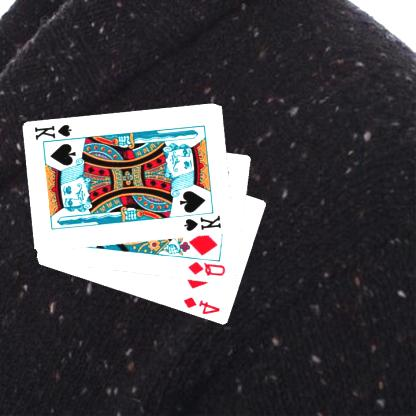4D: (183, 295, 223, 316)
KS: (34, 122, 79, 145), (183, 213, 225, 233)
QD: (187, 259, 229, 278)
